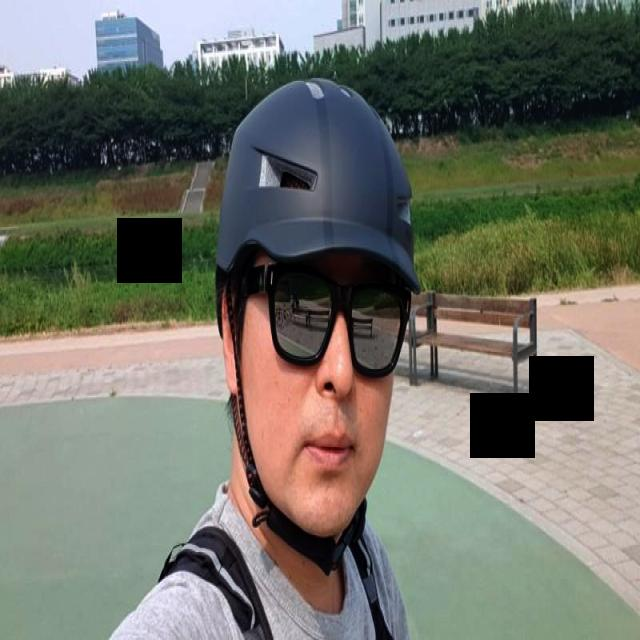Helmet: (215, 75, 423, 552)
